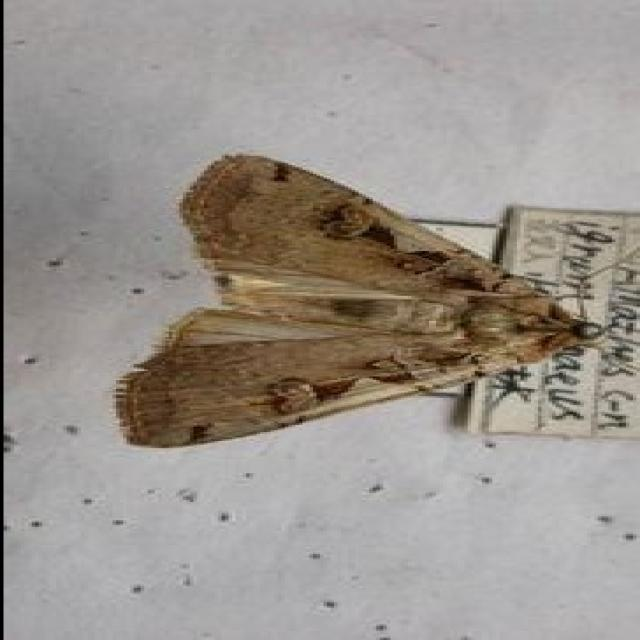black cutworm: (94, 151, 611, 464)
